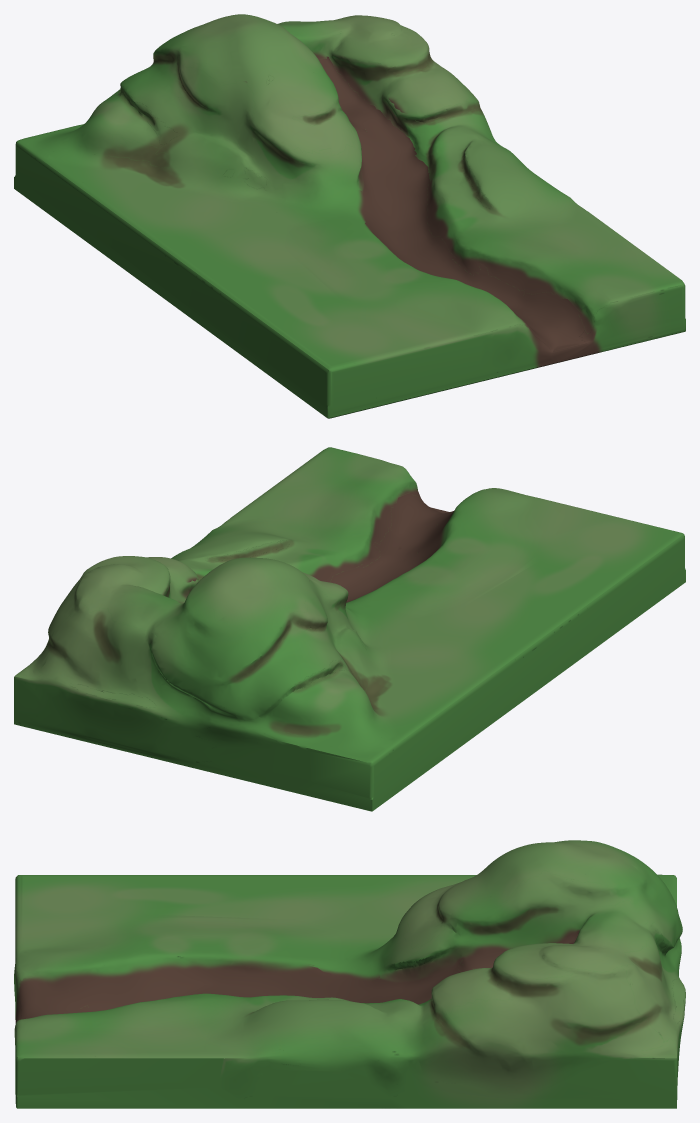
File: maquetamodel.fbx
The picture shows the model from 3 angles, top to bottom: view 1: azimuth 30°, elevation 25°; view 2: azimuth 150°, elevation 25°; view 3: azimuth 270°, elevation 25°; orthographic projection. The views are drawn at different scales.
Parts seen in each view (by area): view 1: Cube; view 2: Cube; view 3: Cube.
Boxes of the visible parts, x1=… form: Cube: x1=14, y1=14, x2=685, y2=418; Cube: x1=14, y1=447, x2=685, y2=811; Cube: x1=14, y1=840, x2=685, y2=1108.
Size of the model in its own units: 205 by 86.34 by 309.
